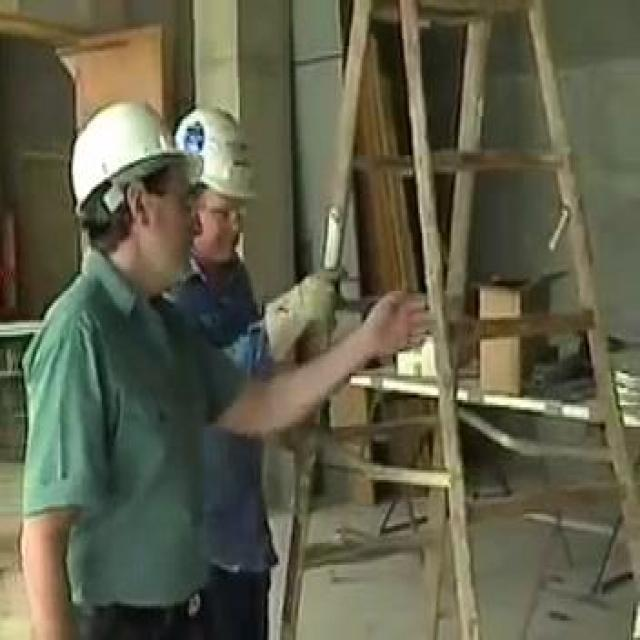Safety-Helmet: (55, 90, 196, 223), (165, 90, 273, 223)
